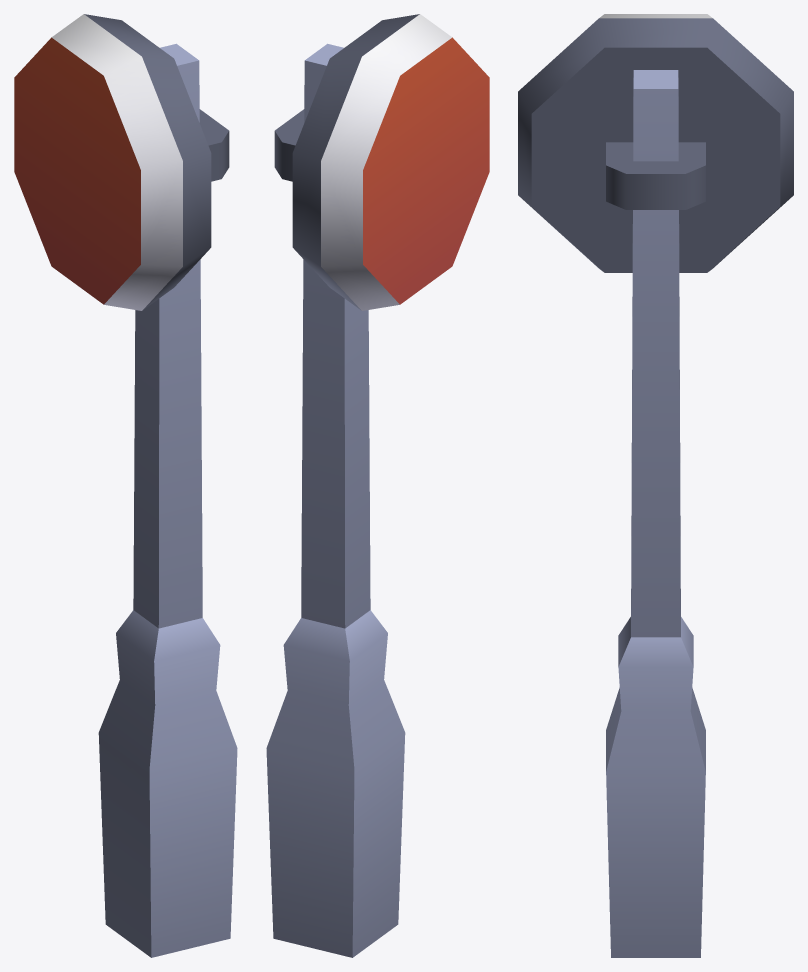
Rendered from road-sign-stop.glb.
3 renders of one model, left to right at view 1: azimuth 30°, elevation 25°; view 2: azimuth 150°, elevation 25°; view 3: azimuth 270°, elevation 25°, orthographic.
Parts seen in each view (by area): view 1: road-sign-stop; view 2: road-sign-stop; view 3: road-sign-stop.
Part boxes in pixels (x1,y1,x2,y2): road-sign-stop: (14,14,237,957); road-sign-stop: (266,14,489,957); road-sign-stop: (518,14,793,957).
Size of the model in its own units: 0.0775 by 0.4941 by 0.1382.
Materials: 1 (1 with a texture image).
